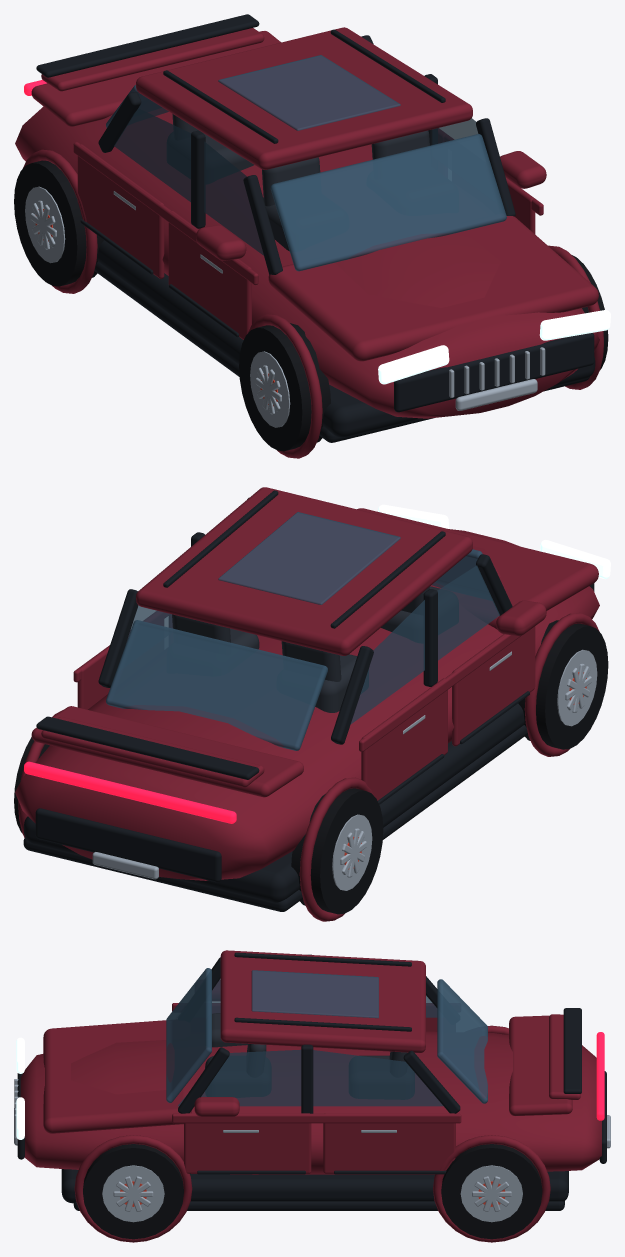
The model's file is timbas-coupe-suv.glb.
3 views of the same model, one above another, from view 1: azimuth 30°, elevation 25°; view 2: azimuth 150°, elevation 25°; view 3: azimuth 270°, elevation 25° (orthographic). The views are drawn at different scales.
Parts seen in each view (by area): view 1: timbas-wine-paint, smoked-car-glass, satin-black-trim, performance-tire, machined-wheel, charcoal-interior, led-headlight; view 2: timbas-wine-paint, smoked-car-glass, satin-black-trim, performance-tire, machined-wheel, charcoal-interior, led-tail-light, led-headlight; view 3: timbas-wine-paint, smoked-car-glass, satin-black-trim, performance-tire, machined-wheel, charcoal-interior, led-tail-light, led-headlight.
Boxes of the visible parts, x1,y1,x2,y2 form: timbas-wine-paint: (15, 27, 603, 458); smoked-car-glass: (106, 55, 509, 271); satin-black-trim: (36, 14, 595, 442); performance-tire: (14, 160, 608, 451); machined-wheel: (25, 186, 545, 427); charcoal-interior: (167, 114, 429, 251); led-headlight: (378, 310, 610, 384); timbas-wine-paint: (15, 487, 599, 921); smoked-car-glass: (106, 512, 499, 750); satin-black-trim: (23, 490, 594, 911); performance-tire: (14, 620, 608, 914); machined-wheel: (92, 649, 597, 890); charcoal-interior: (172, 586, 458, 712); led-tail-light: (24, 761, 236, 823); led-headlight: (378, 504, 610, 579); timbas-wine-paint: (20, 950, 601, 1242); smoked-car-glass: (166, 968, 487, 1106); satin-black-trim: (17, 952, 606, 1210); performance-tire: (83, 1144, 542, 1239); machined-wheel: (14, 1079, 610, 1222); charcoal-interior: (205, 1013, 414, 1099); led-tail-light: (596, 1032, 604, 1120); led-headlight: (16, 1037, 24, 1139).
Bounding box in the file's own units: 2.28 × 1.68 × 4.5.
